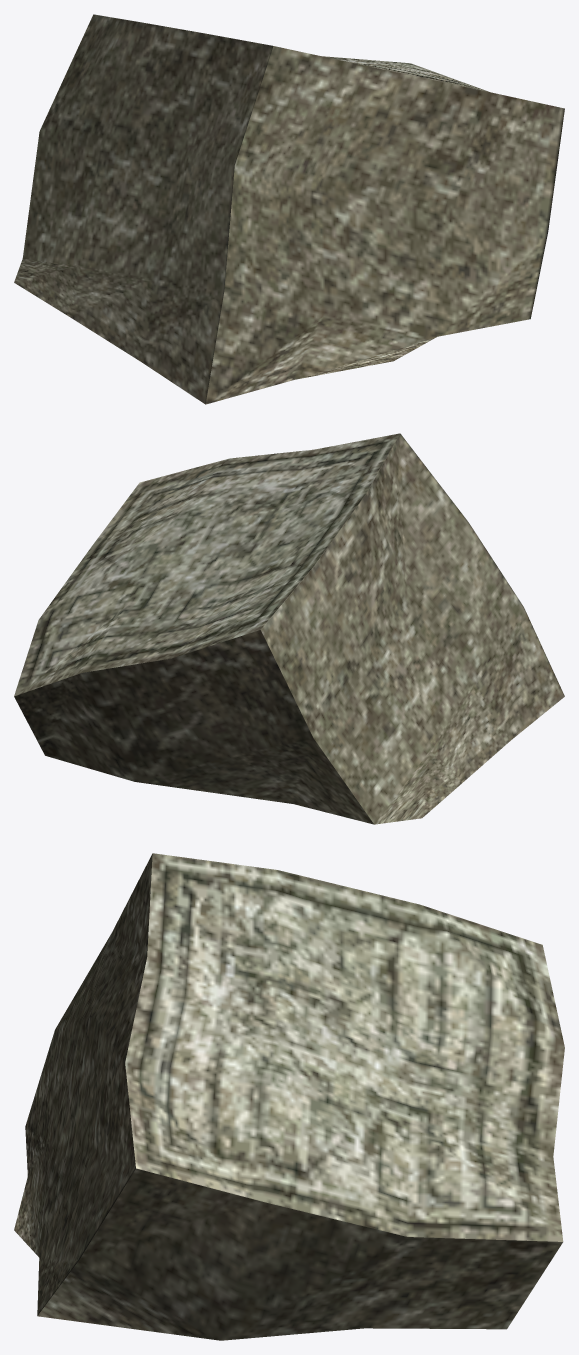
Rendered from ob-bigstone03.fbx.
3 views of the same model, one above another, from view 1: azimuth 30°, elevation 25°; view 2: azimuth 150°, elevation 25°; view 3: azimuth 270°, elevation 25° (orthographic). The views are drawn at different scales.
Parts seen in each view (by area): view 1: Box01; view 2: Box01; view 3: Box01.
Boxes of the visible parts, x1=… form: Box01: x1=14, y1=14, x2=564, y2=404; Box01: x1=14, y1=433, x2=564, y2=824; Box01: x1=14, y1=853, x2=564, y2=1340.
Size of the model in its own units: 4.16 by 2.71 by 3.93.
